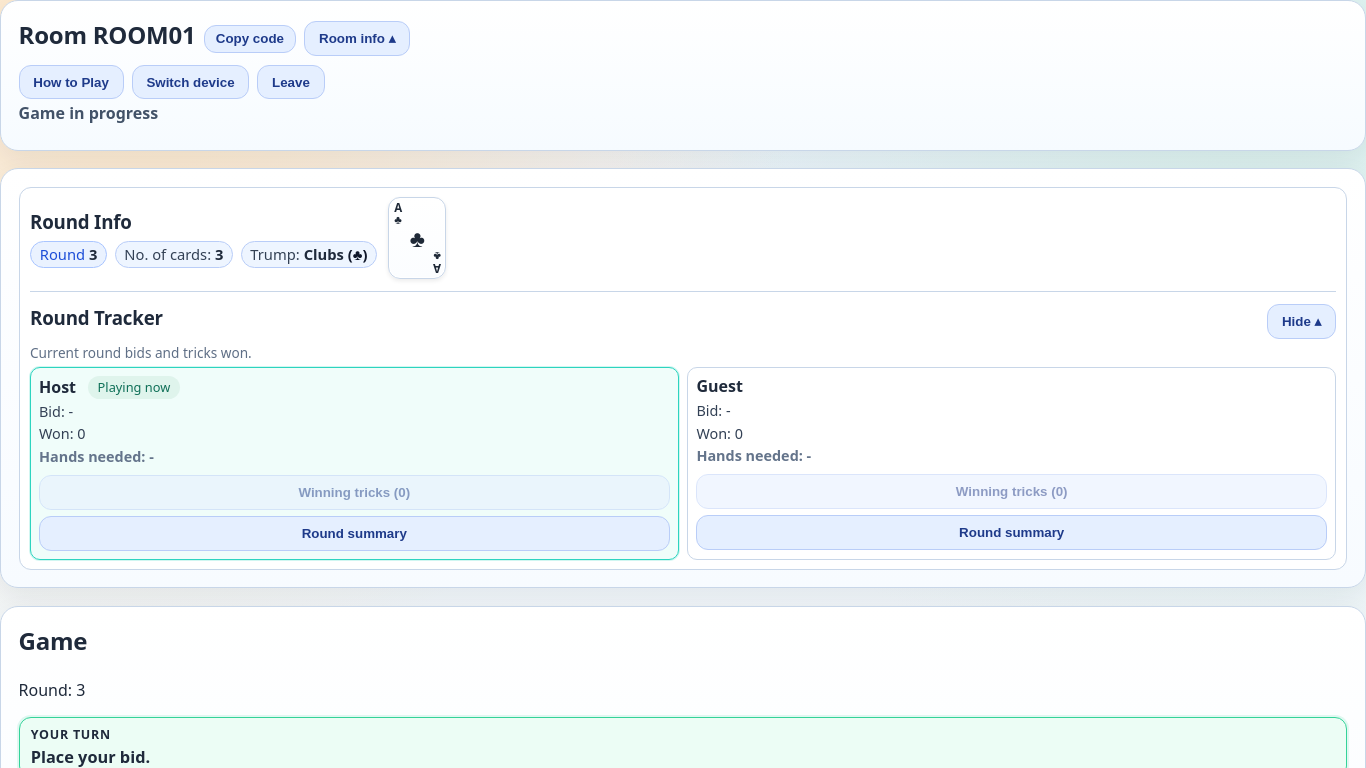
Scenario: GameClient › opens per-player round summary on demand
Click the button with aria-label "View round summary for Host" at (354, 533), box [39,516,670,551]
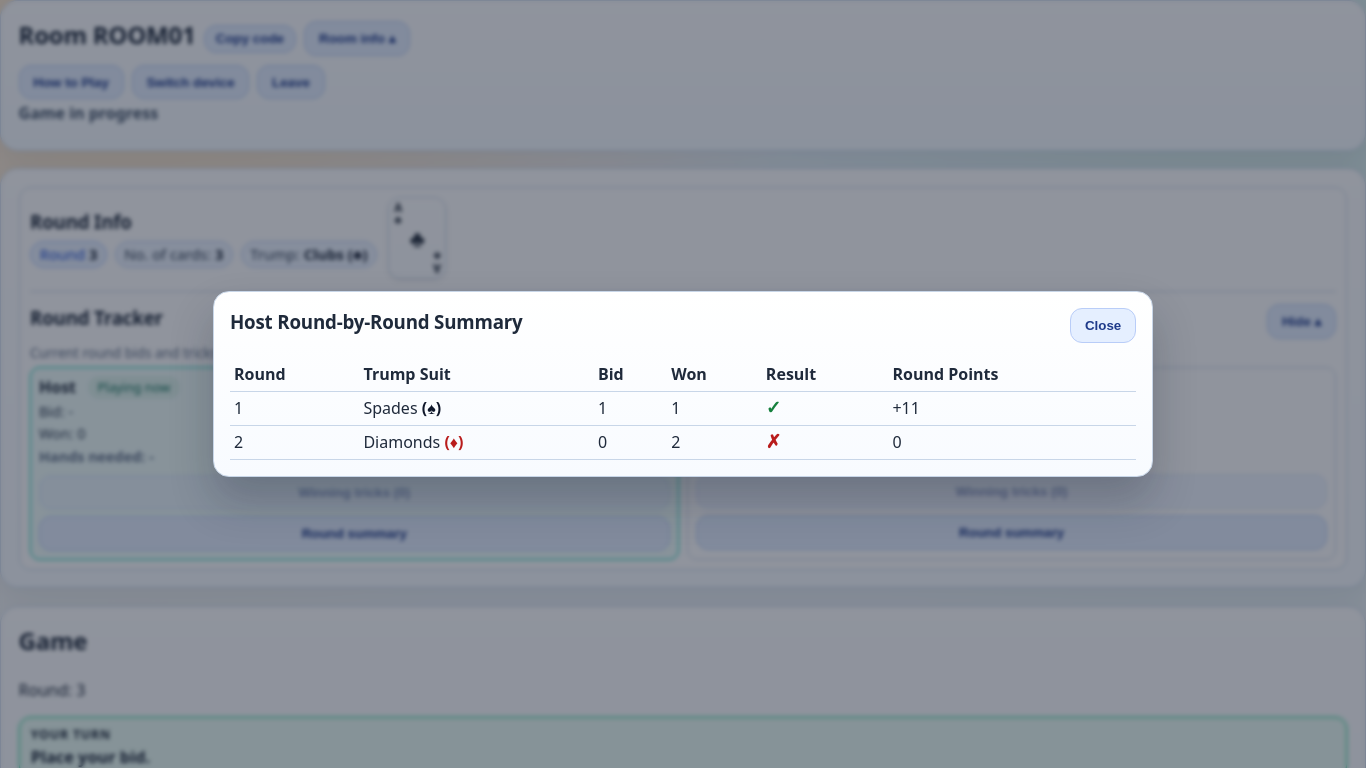
expect the heading "Host Round-by-Round Summary" is shown: met, box [230,309,523,334]
expect the column heading "Round Points" is shown: met, box [888,358,1136,392]
expect the text "+11" is shown: met, box [888,392,1136,426]
